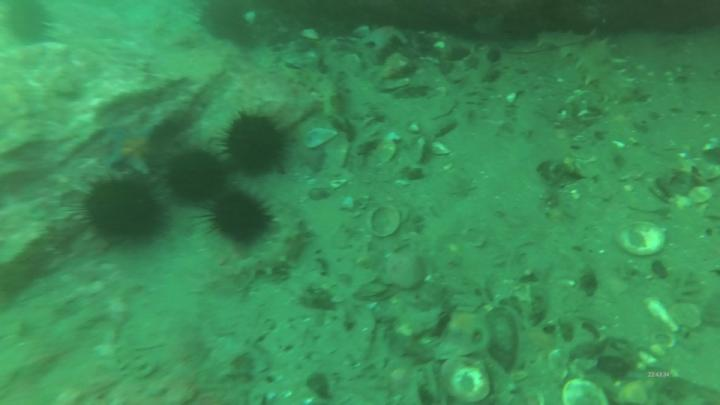echinus: (76, 173, 168, 252), (158, 142, 234, 211), (220, 109, 291, 177), (203, 189, 278, 246), (195, 1, 257, 44), (1, 1, 55, 47)
holothurian: (537, 25, 637, 104), (231, 216, 313, 287)
starfish: (104, 122, 164, 177)
